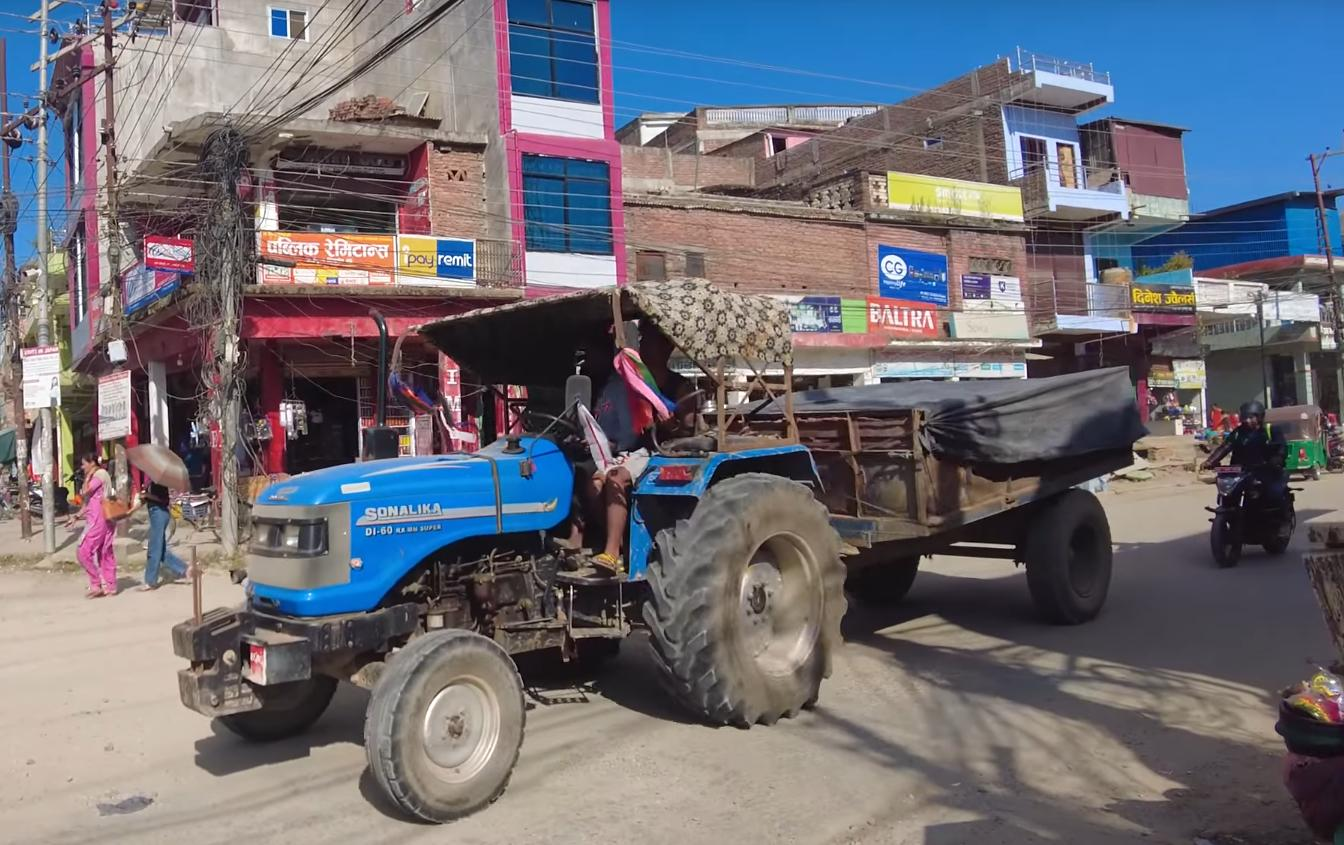bike: (1186, 441, 1315, 563)
tractor: (170, 269, 847, 824)
